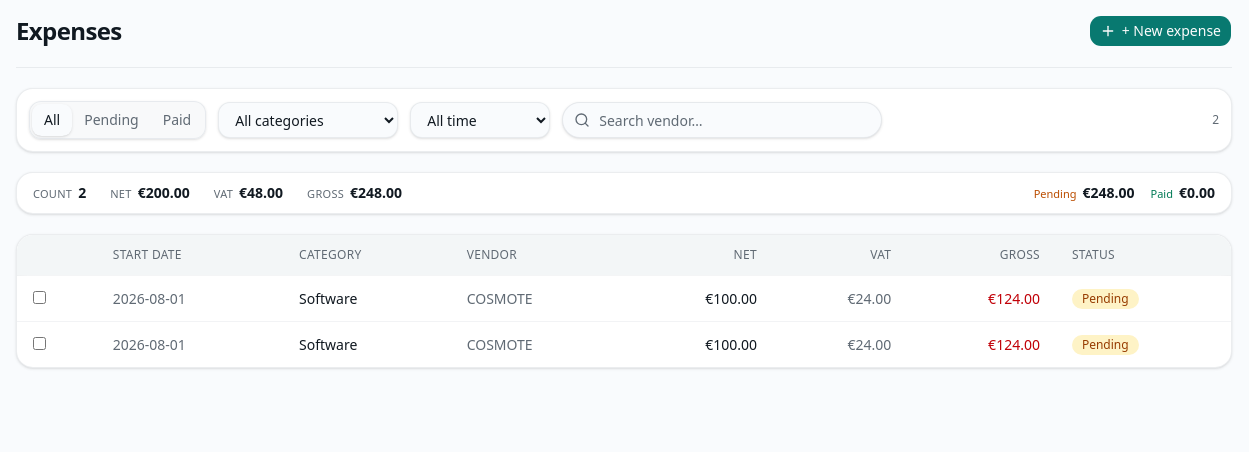
Test case: ExpensesPage — M7 clears selection when filters change › drops the bulk selection when the status filter changes
What coordinates should you click on to do the following:
click the 1st checkbox named "Select row"
I would click on:
 (40, 297)
Its box is [33,290,46,304].
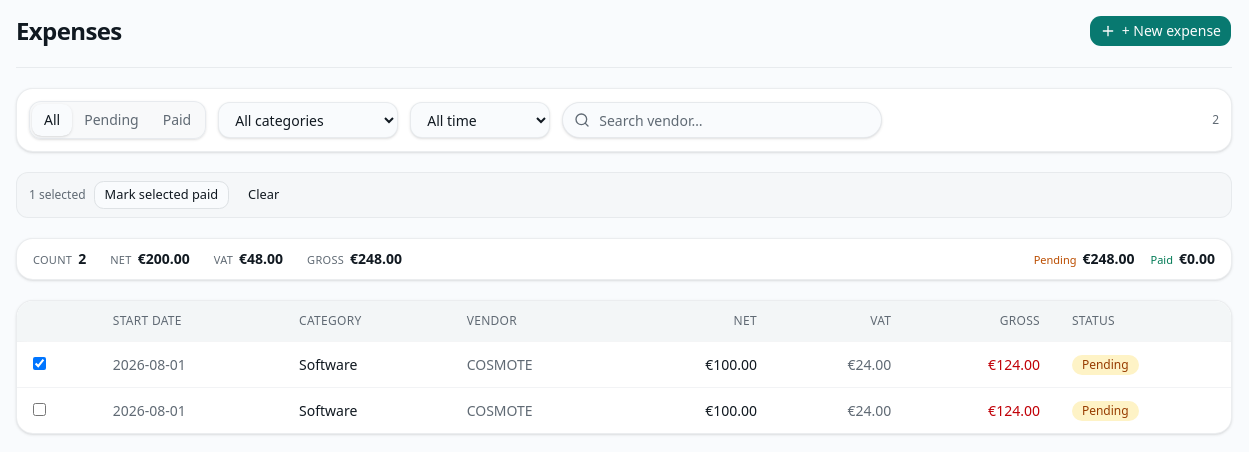
Expected: the text "1 selected" is shown, [29,187,86,203]
What coordinates should you click on to do the following:
click the button "Pending"
I would click on:
 (111, 120)
Its box is [72,104,151,136].
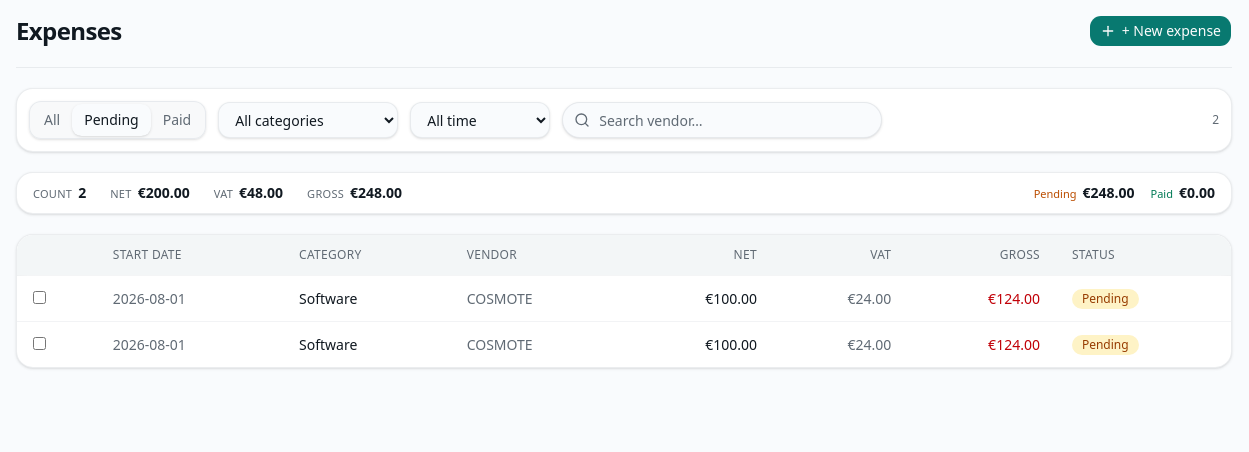
Expected: the text "1 selected" is gone
